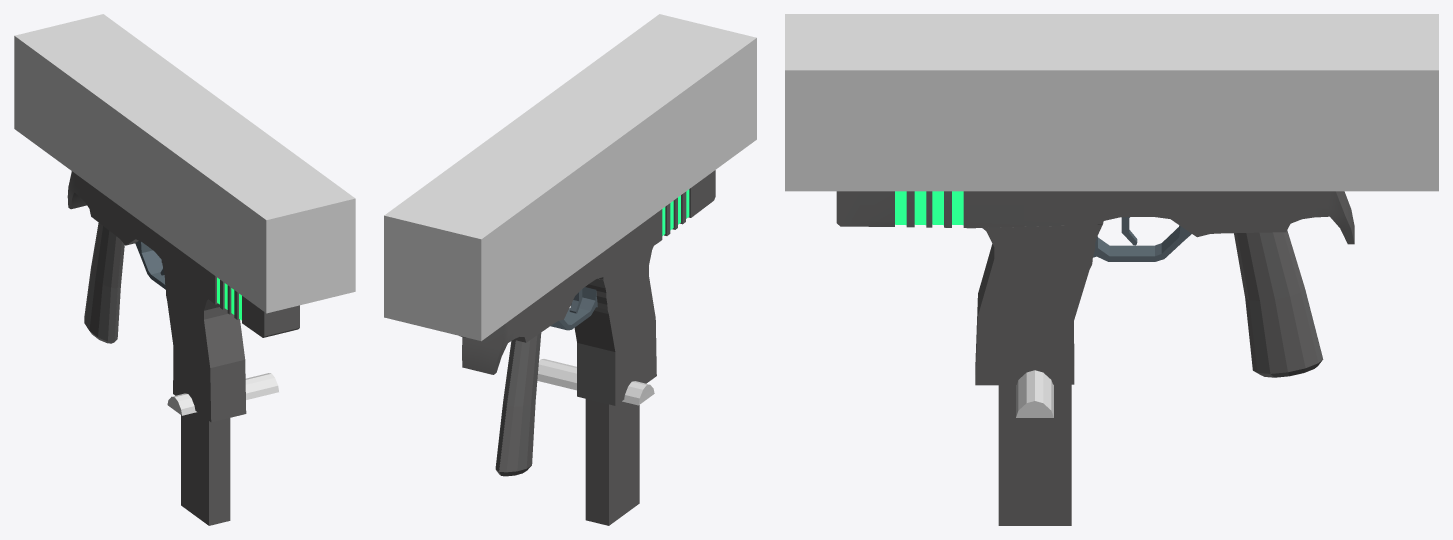
The model's file is Smg.fbx.
3 views of the same model, side by side, from view 1: azimuth 30°, elevation 25°; view 2: azimuth 150°, elevation 25°; view 3: azimuth 270°, elevation 25° (orthographic). The views are drawn at different scales.
Parts seen in each view (by area): view 1: Cube.018, Cube, Cube.012, Cube.014, Cube.013, Cube.020, Plane; view 2: Cube.018, Cube, Cube.012, Cube.014, Cube.013, Cube.020, Plane; view 3: Cube.018, Cube.012, Cube, Cube.014, Cube.013, Plane, Cube.020.
Part boxes in pixels (x1=…): Cube.018: x1=14, y1=14, x2=355, y2=313; Cube: x1=162, y1=263, x2=246, y2=422; Cube.012: x1=67, y1=171, x2=299, y2=337; Cube.014: x1=181, y1=412, x2=230, y2=525; Cube.013: x1=84, y1=223, x2=124, y2=343; Cube.020: x1=167, y1=373, x2=278, y2=415; Plane: x1=135, y1=241, x2=165, y2=289; Cube.018: x1=384, y1=14, x2=756, y2=341; Cube: x1=570, y1=246, x2=656, y2=405; Cube.012: x1=462, y1=170, x2=715, y2=374; Cube.014: x1=585, y1=278, x2=639, y2=525; Cube.013: x1=495, y1=333, x2=541, y2=476; Cube.020: x1=537, y1=359, x2=654, y2=405; Plane: x1=550, y1=287, x2=597, y2=330; Cube.018: x1=785, y1=14, x2=1438, y2=191; Cube.012: x1=836, y1=191, x2=1354, y2=244; Cube: x1=975, y1=224, x2=1102, y2=385; Cube.014: x1=998, y1=225, x2=1071, y2=525; Cube.013: x1=1234, y1=230, x2=1323, y2=377; Plane: x1=1093, y1=225, x2=1191, y2=261; Cube.020: x1=1016, y1=370, x2=1053, y2=417.
Bounding box in the file's own units: 114 × 399 × 490.
